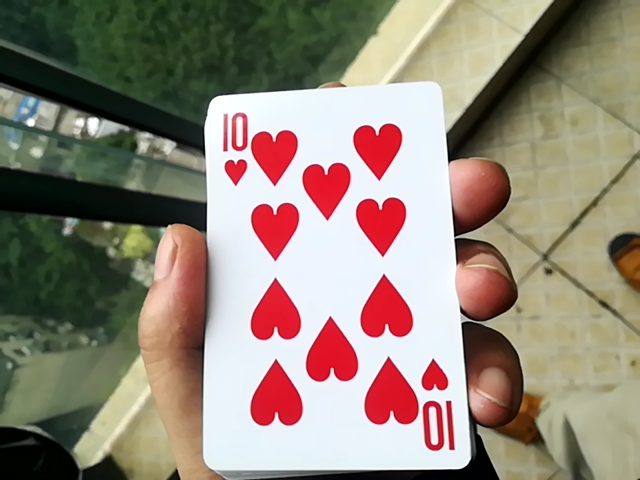hx 10: (194, 71, 457, 470)
